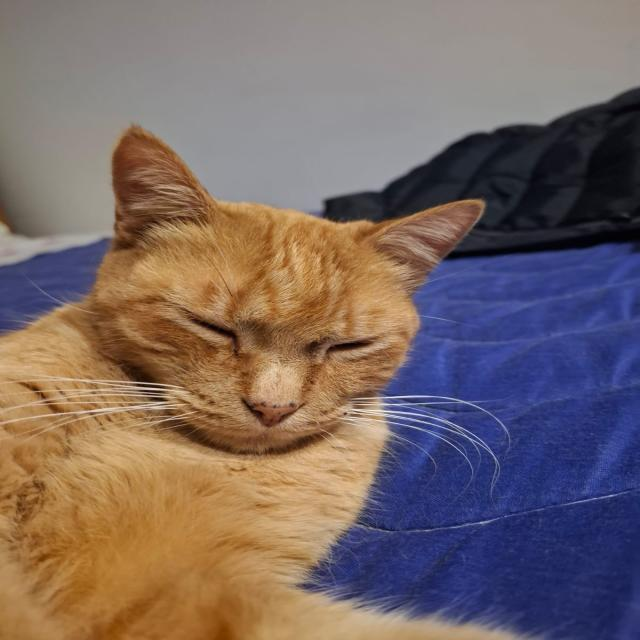Left_ear: (375, 198, 493, 281)
Nouse: (243, 399, 309, 429)
Right_ear: (111, 123, 216, 248), (324, 333, 384, 358)
Right_eye: (181, 305, 240, 351)
